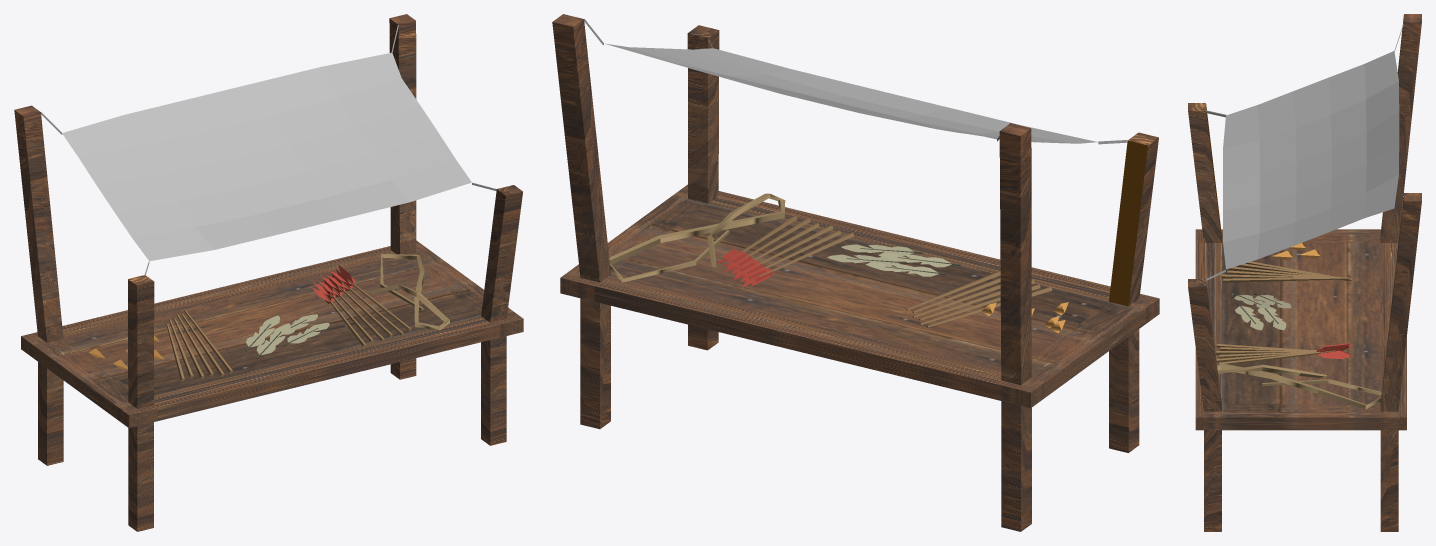
File: Ranging stall.glb
3 views of the same model, side by side, from view 1: azimuth 30°, elevation 25°; view 2: azimuth 150°, elevation 25°; view 3: azimuth 270°, elevation 25° (orthographic). The views are drawn at different scales.
Parts seen in each view (by area): view 1: Cube; view 2: Cube; view 3: Cube.
Part boxes in pixels (left/top/right/bottom): Cube: left=14, top=14, right=523, bottom=531; Cube: left=552, top=14, right=1159, bottom=531; Cube: left=1188, top=14, right=1421, bottom=531.
Bounding box in the file's own units: 1.9 × 1.58 × 0.9964.
Materials: 10 (1 with a texture image).
